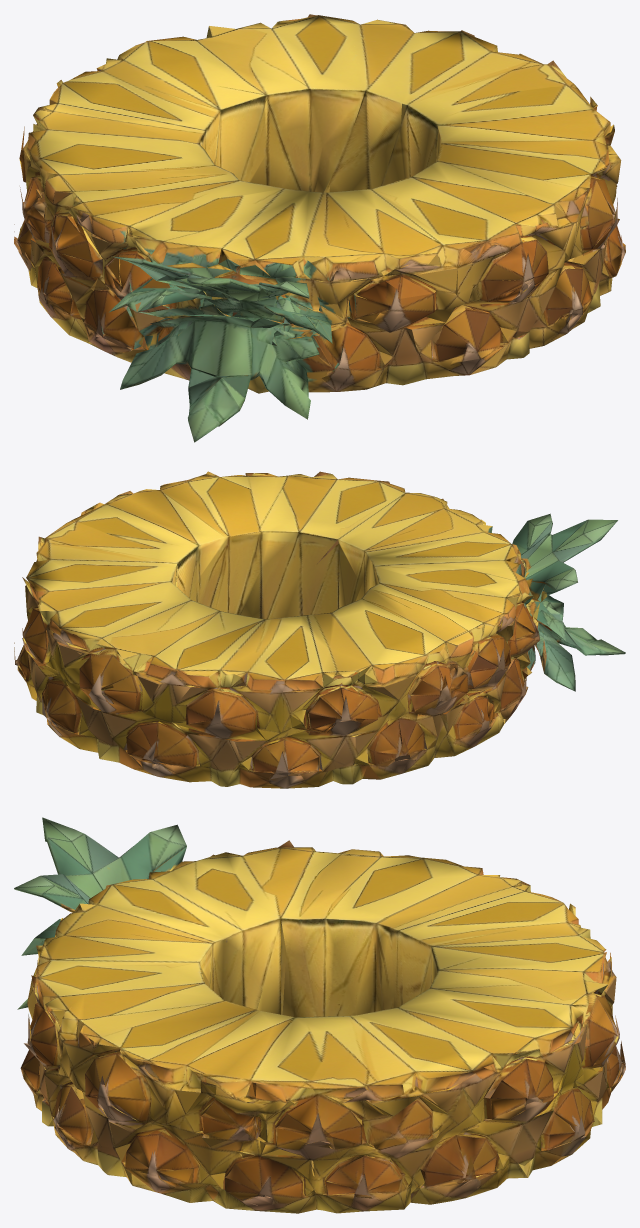
Rendered from Meshy_AI_Pineapple_Ring_0823085930_texture.fbx.
3 renders of one model, top to bottom at view 1: azimuth 30°, elevation 25°; view 2: azimuth 150°, elevation 25°; view 3: azimuth 270°, elevation 25°, orthographic. The views are drawn at different scales.
Visible parts, largest first — view 1: output_unwrapped; view 2: output_unwrapped; view 3: output_unwrapped.
Boxes of the visible parts, left/top/right/bottom form: output_unwrapped: left=14, top=14, right=625, bottom=442; output_unwrapped: left=14, top=471, right=625, bottom=788; output_unwrapped: left=14, top=817, right=625, bottom=1213.
Size of the model in its own units: 190 by 52.27 by 188.
Materials: 1 (1 with a texture image).
